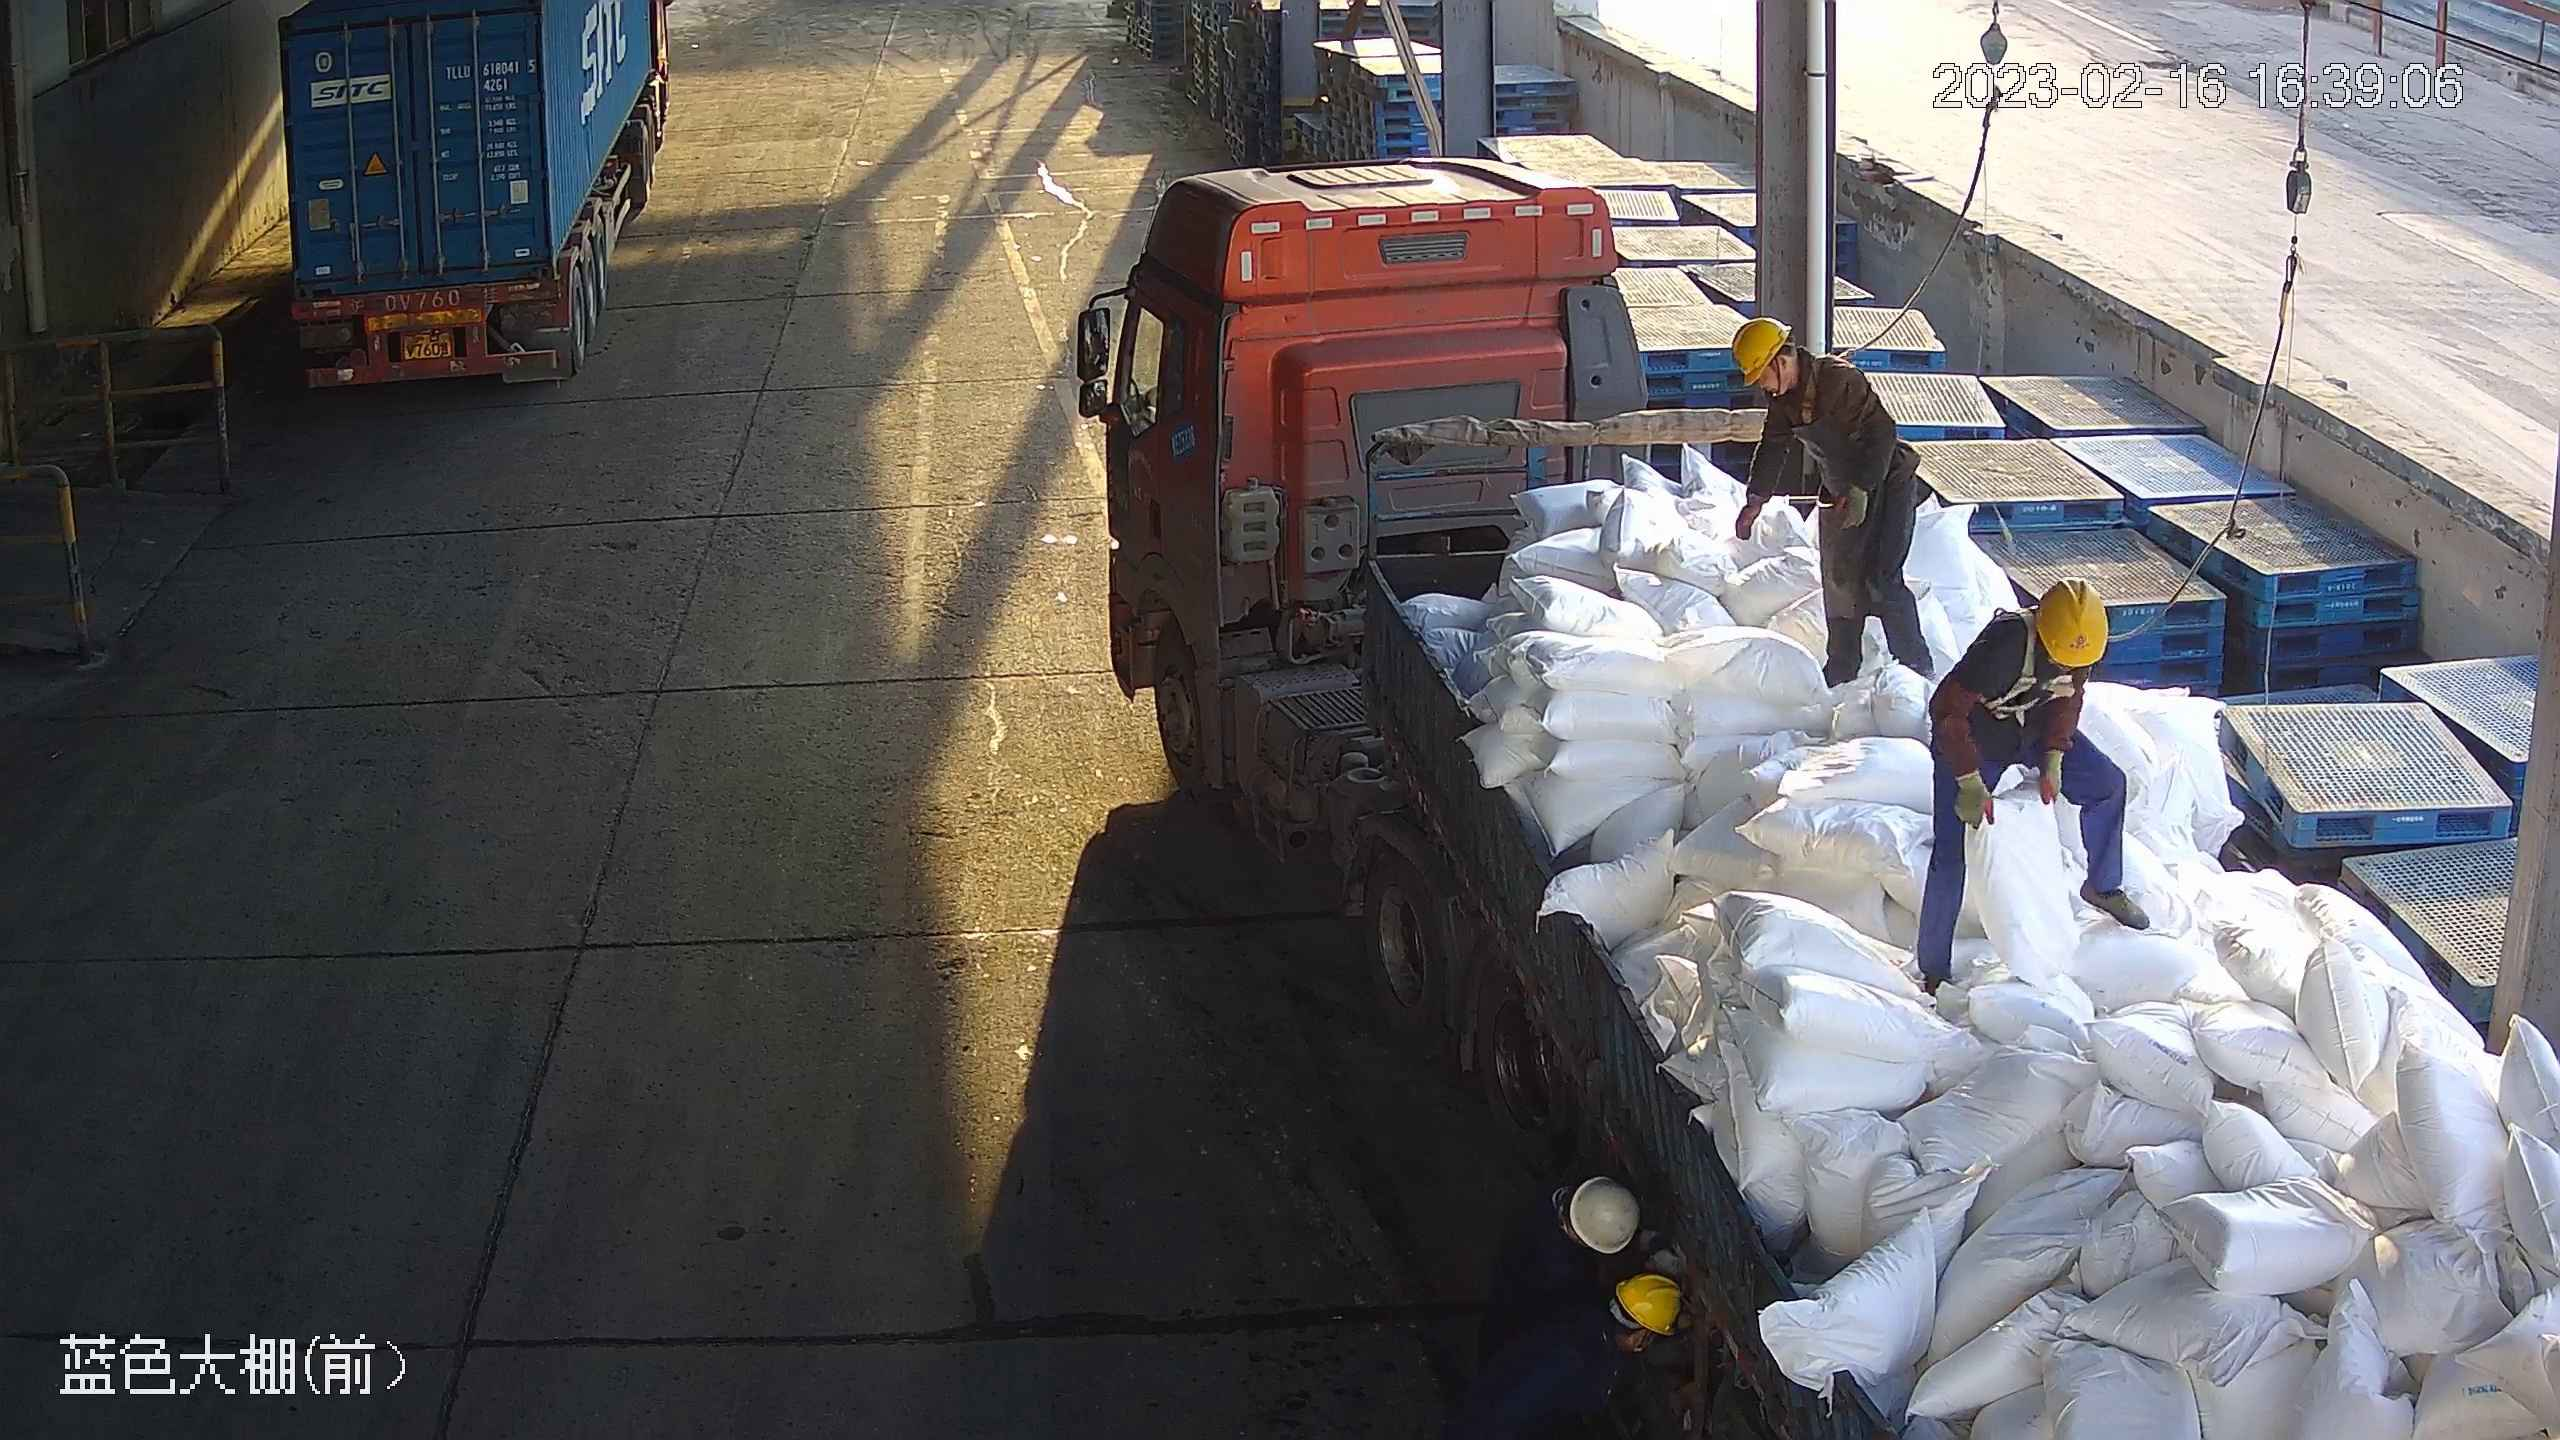belt: (1981, 648, 2075, 729), (1782, 355, 1854, 420)
head: (1976, 578, 2107, 699), (1730, 322, 1858, 427)
helmet: (2039, 579, 2109, 664), (1569, 1179, 1634, 1255), (1613, 1274, 1686, 1336), (1730, 318, 1792, 386)
people: (1920, 585, 2142, 995), (1723, 313, 1932, 688)
truck: (1077, 160, 2560, 1440), (283, 1, 679, 401)
